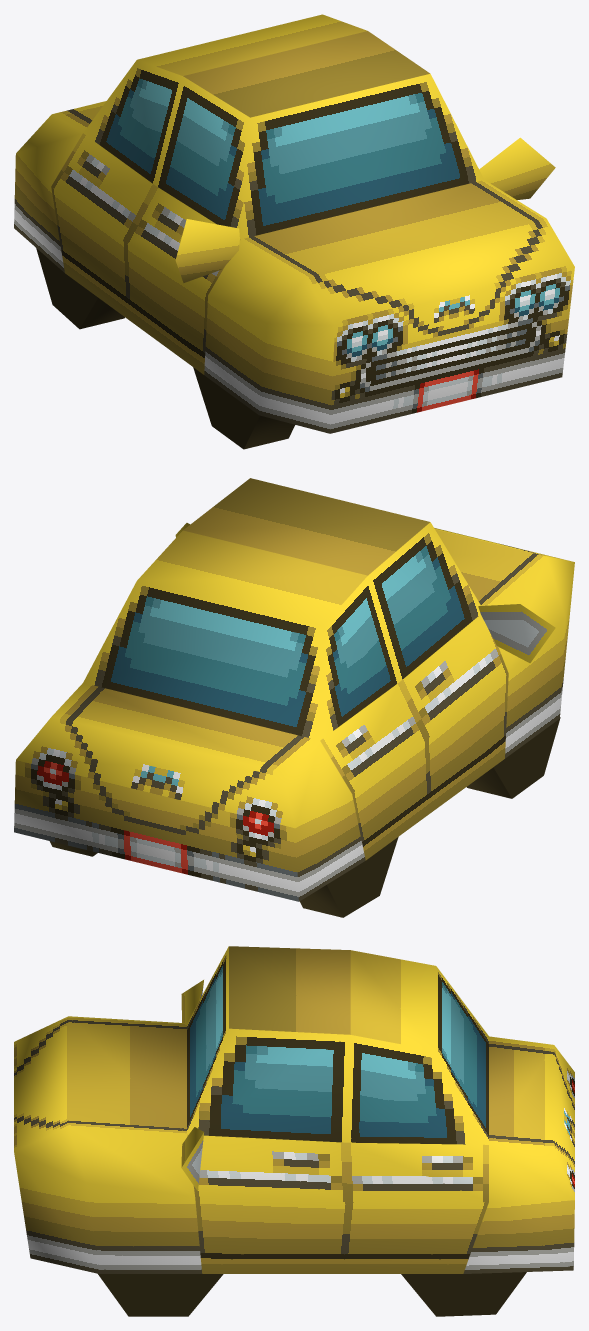
The model's file is ridge_course-car_a.glb.
The picture shows the model from 3 angles, top to bottom: view 1: azimuth 30°, elevation 25°; view 2: azimuth 150°, elevation 25°; view 3: azimuth 270°, elevation 25°; orthographic projection. The views are drawn at different scales.
Visible parts, largest first — view 1: car_a; view 2: car_a; view 3: car_a.
Part boxes in pixels (x1,y1,x2,y2): car_a: [14, 14, 574, 449]; car_a: [14, 478, 574, 917]; car_a: [14, 946, 574, 1316].
Bounding box in the file's own units: 1.86 × 1.3 × 2.54.
1 material, 1 textured.
